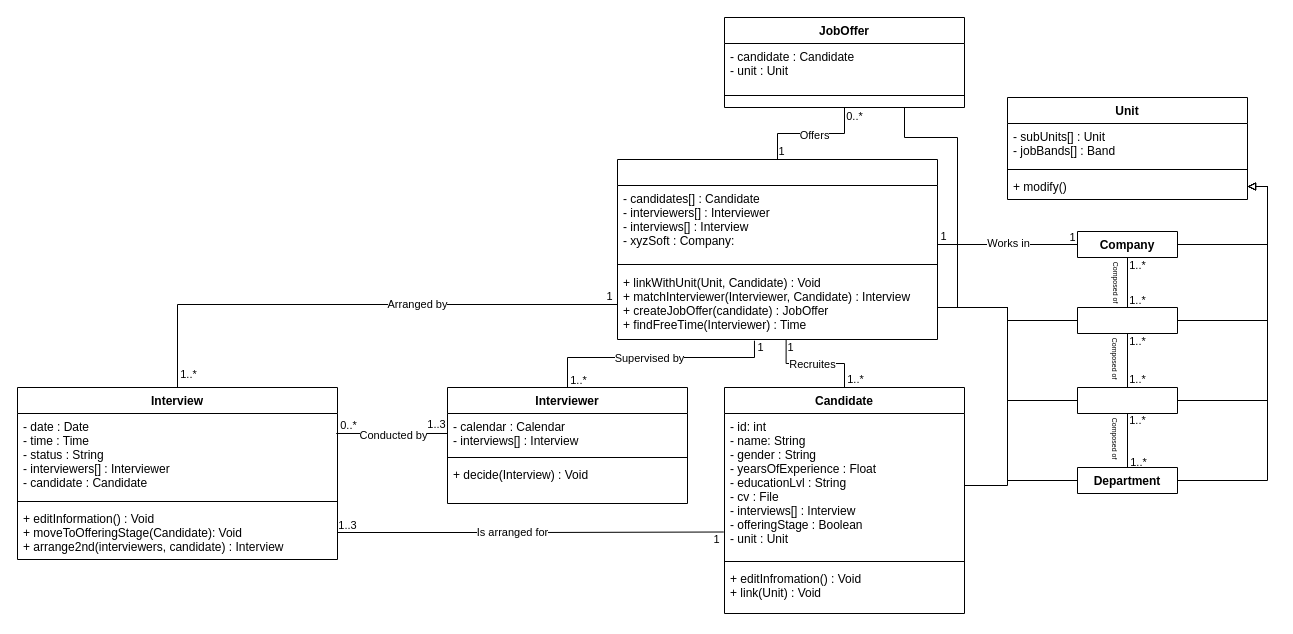
Image size: 1293x634. Some labels were removed from this diagram. Each missing label, with the box of its shape:
Directorate: (1076, 386, 1178, 414)
Division: (1076, 306, 1178, 334)
TA (Talent Acquisition): (616, 158, 938, 340)
